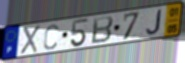5: (69, 17, 90, 48)
7: (122, 10, 142, 42)
B: (90, 15, 115, 46)
C: (42, 23, 60, 51)
J: (145, 9, 163, 36)
X: (19, 25, 41, 56)
